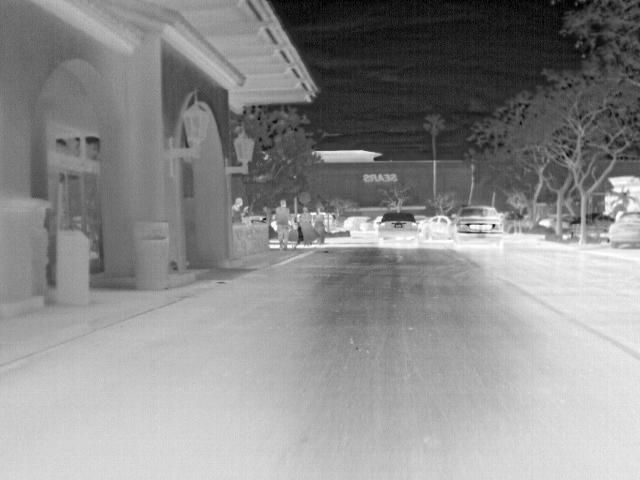car: (451, 204, 504, 244), (603, 211, 640, 250), (378, 210, 419, 243), (427, 214, 451, 232), (340, 214, 362, 232), (361, 214, 378, 232), (568, 214, 581, 232), (414, 214, 431, 227), (560, 213, 574, 228), (542, 215, 557, 227)
person: (232, 196, 259, 240), (275, 199, 292, 251), (314, 206, 326, 248), (300, 205, 312, 246)
